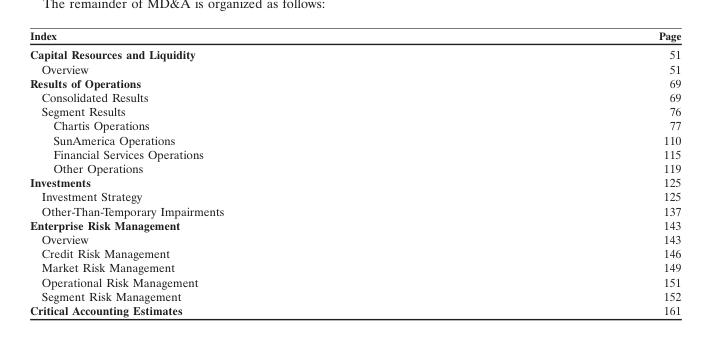table: (29, 28, 680, 317)
table column: (29, 28, 440, 317), (440, 28, 680, 317)
table column header: (29, 28, 680, 44)
table row: (29, 44, 680, 61), (29, 28, 680, 44), (29, 103, 680, 118), (29, 174, 680, 189), (29, 231, 680, 246), (29, 302, 680, 317), (29, 61, 680, 75), (29, 75, 680, 89), (29, 89, 680, 103), (29, 118, 680, 132), (29, 132, 680, 146), (29, 146, 680, 160), (29, 160, 680, 174), (29, 189, 680, 203), (29, 203, 680, 217), (29, 217, 680, 231), (29, 246, 680, 260), (29, 260, 680, 274), (29, 274, 680, 288), (29, 288, 680, 302)
